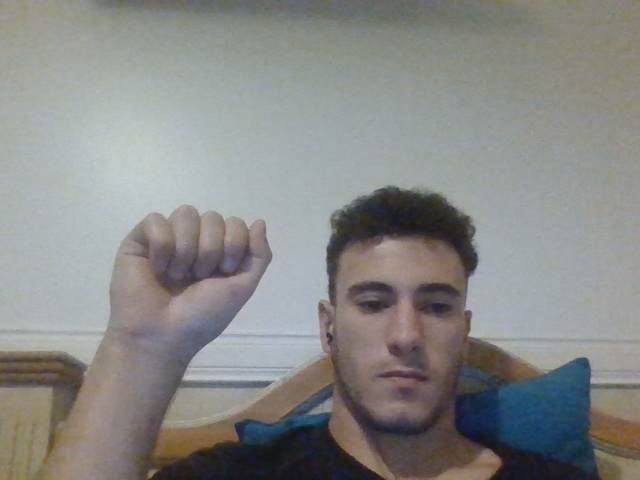Stop: (109, 205, 273, 340)
